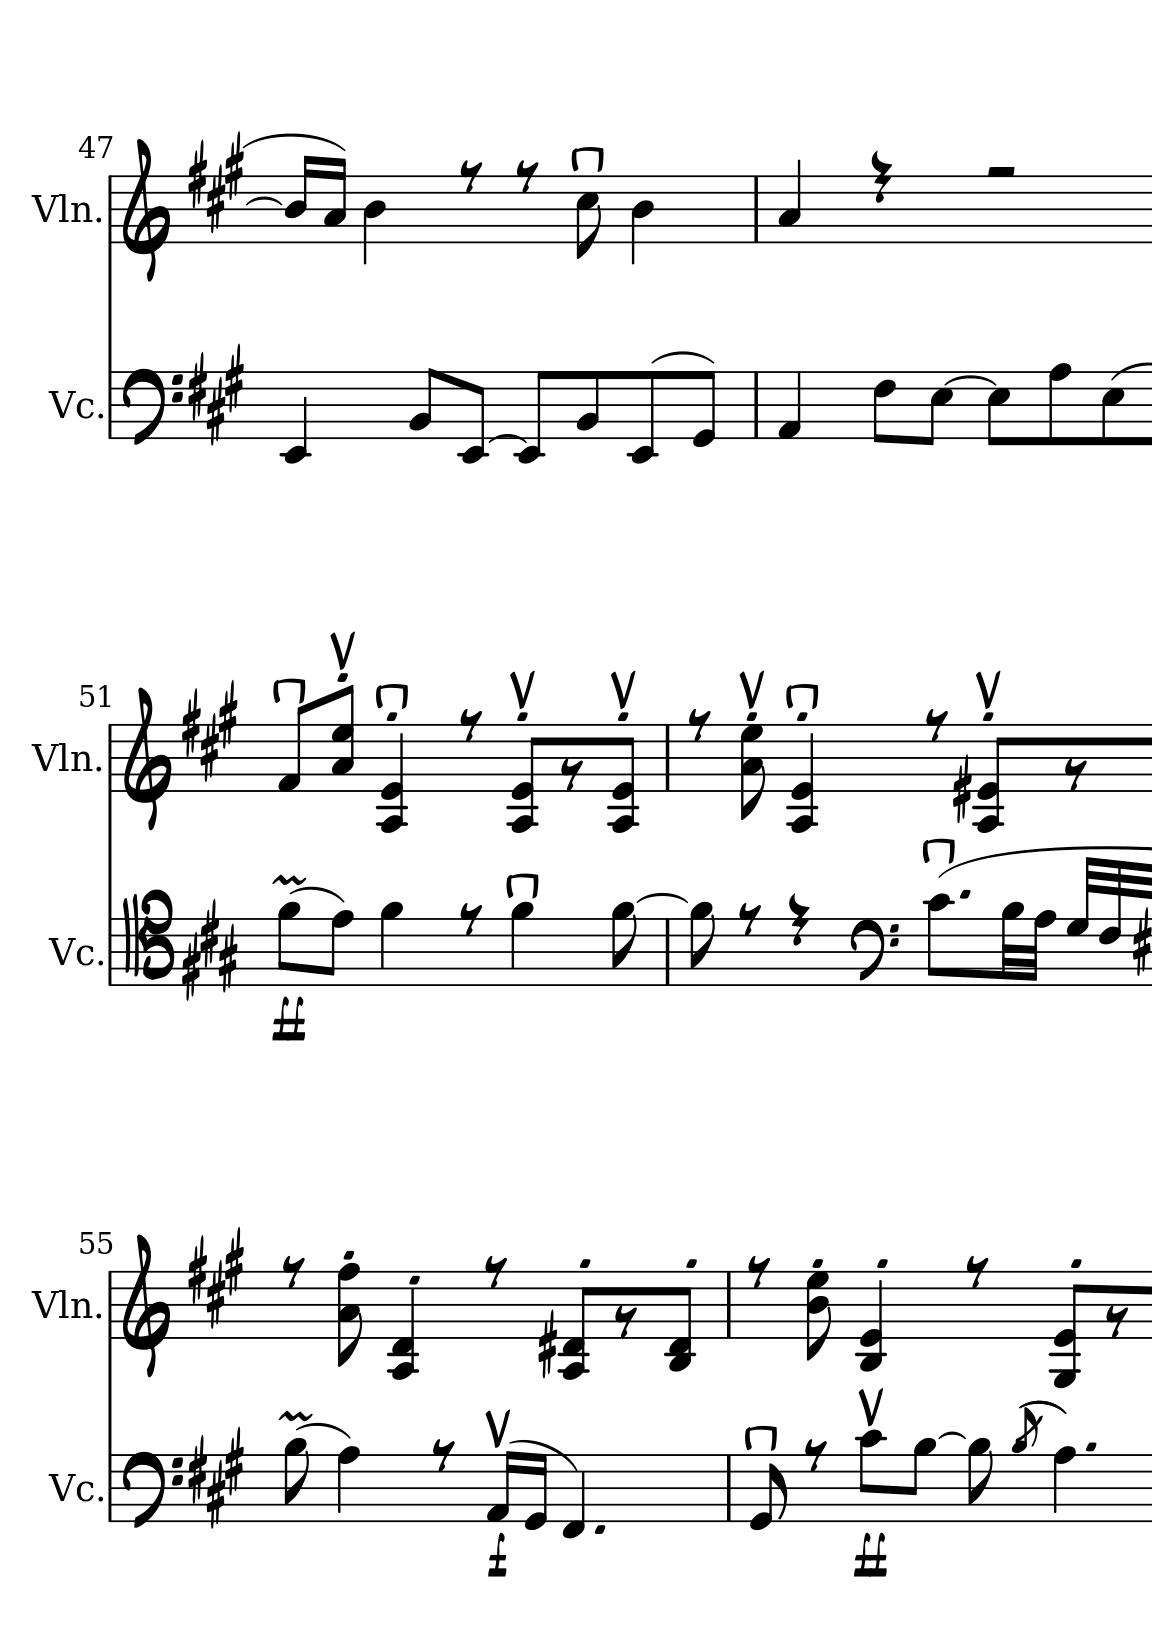1: (97, 682, 111, 712)
16_0: (522, 1451, 547, 1532)
16_1: (484, 1451, 517, 1524)
16_3: (322, 155, 347, 244)
16_4: (283, 155, 315, 244)
16_6: (1097, 852, 1122, 987)
16_7: (1065, 852, 1095, 988)
32_8: (1027, 908, 1055, 991)
32_9: (999, 900, 1024, 988)
4: (77, 135, 95, 162)
4_-2: (281, 369, 308, 465)
4_-3_0: (857, 1270, 886, 1375)
4_-4_-1: (386, 1270, 421, 1380)
4_-4_0: (785, 723, 822, 834), (377, 722, 410, 834)
4_1: (775, 370, 802, 442)
4_3: (777, 158, 802, 245)
4_4: (630, 174, 655, 267), (362, 174, 386, 265)
4_8: (1051, 1446, 1076, 1525), (335, 1446, 360, 1524)
4_9: (378, 900, 404, 988), (507, 900, 534, 988)
5: (77, 680, 95, 712), (77, 1229, 95, 1257), (97, 1229, 113, 1257)
7: (96, 133, 113, 162)
8_-1: (559, 1452, 585, 1543)
8_-2: (514, 369, 552, 466), (626, 368, 658, 466), (456, 370, 487, 465)
8_-3_-1: (665, 1269, 697, 1372)
8_-4_-1: (556, 1270, 593, 1382)
8_-4_0: (505, 723, 546, 834), (972, 724, 1009, 836), (607, 723, 640, 834)
8_-5_0: (1049, 1270, 1086, 1389)
8_0: (748, 1456, 787, 1533), (689, 369, 717, 450)
8_1: (274, 705, 309, 795)
8_10: (857, 1428, 884, 1524), (924, 892, 951, 987)
8_2: (406, 366, 438, 441), (574, 369, 600, 441)
8_3_7: (738, 724, 767, 822), (332, 684, 355, 793)
8_3_8: (335, 1261, 364, 1368)
8_4_7: (805, 1270, 832, 1363)
8_5: (921, 370, 953, 447), (575, 174, 600, 260), (1098, 370, 1126, 447), (985, 369, 1011, 449)
8_6: (870, 370, 896, 446)
8_8: (317, 908, 353, 987), (1045, 361, 1072, 447)
8_9: (903, 1437, 936, 1523), (608, 901, 636, 989), (687, 901, 714, 989), (965, 1437, 992, 1524), (282, 1437, 308, 1524), (276, 901, 300, 988)
A_S: (182, 1226, 249, 1328), (182, 132, 248, 234), (185, 1424, 249, 1527), (175, 897, 239, 997), (177, 680, 241, 780), (187, 341, 248, 442)
Acciaccature: (1009, 1406, 1040, 1523)
Down_bow: (919, 835, 959, 867), (784, 682, 822, 714), (375, 680, 411, 713), (506, 872, 542, 905), (569, 145, 606, 174), (271, 677, 308, 707)
Fclef: (121, 1449, 183, 1532), (121, 368, 183, 449), (848, 916, 899, 988)
Gclef: (118, 135, 172, 282), (121, 683, 172, 832), (120, 1230, 171, 1377)
Rests2: (982, 161, 1019, 182)
Rests4: (785, 891, 810, 948), (869, 150, 893, 206)
Rests8: (611, 1304, 638, 1340), (1061, 756, 1088, 791), (559, 756, 585, 793), (923, 707, 949, 741), (279, 1254, 305, 1289), (1103, 1304, 1130, 1338), (430, 1438, 456, 1473), (458, 901, 482, 937), (802, 1437, 827, 1473), (514, 160, 539, 194), (458, 707, 482, 741), (737, 901, 762, 936), (964, 1254, 989, 1289), (458, 160, 482, 193), (686, 708, 711, 741), (482, 1255, 507, 1289), (746, 1255, 770, 1289)
Sharp: (950, 754, 972, 822), (535, 1311, 557, 1380), (1130, 908, 1151, 978)
ShortTrill: (277, 1406, 313, 1424), (271, 874, 309, 889)
Single_barline: (747, 373, 764, 439), (748, 177, 764, 242), (660, 727, 674, 790), (721, 1274, 736, 1337), (721, 1456, 736, 1519), (103, 1456, 117, 1522), (103, 373, 117, 437), (103, 176, 116, 244), (103, 918, 116, 986), (103, 1272, 116, 1338), (103, 724, 115, 791)
Slur: (510, 1437, 577, 1470), (242, 132, 349, 150), (297, 1419, 352, 1442), (650, 349, 714, 366), (289, 885, 345, 903), (944, 373, 997, 388), (1110, 363, 1152, 381), (1019, 1398, 1067, 1414), (638, 892, 688, 906), (244, 194, 286, 207), (489, 432, 526, 445), (938, 1431, 967, 1442)
Tensor_Cclef: (120, 889, 172, 988)
Tremolo_bar: (738, 669, 766, 712), (509, 670, 537, 710), (857, 1386, 884, 1427), (329, 631, 357, 670), (611, 669, 638, 708), (976, 670, 1002, 710), (486, 1409, 510, 1448)
Vc: (45, 386, 98, 420), (46, 1470, 98, 1504), (46, 933, 96, 967)
Vln: (29, 187, 95, 231), (30, 736, 94, 779), (31, 1285, 94, 1326)
dot: (1083, 1438, 1098, 1454), (592, 1522, 608, 1537), (958, 889, 971, 902)
f: (485, 1532, 507, 1580)
ff: (852, 1532, 889, 1580), (271, 994, 305, 1044)
